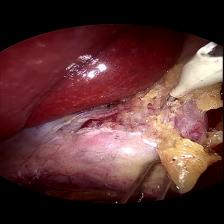Grasper: (116, 156, 177, 204)
Hook: (160, 43, 222, 110)
